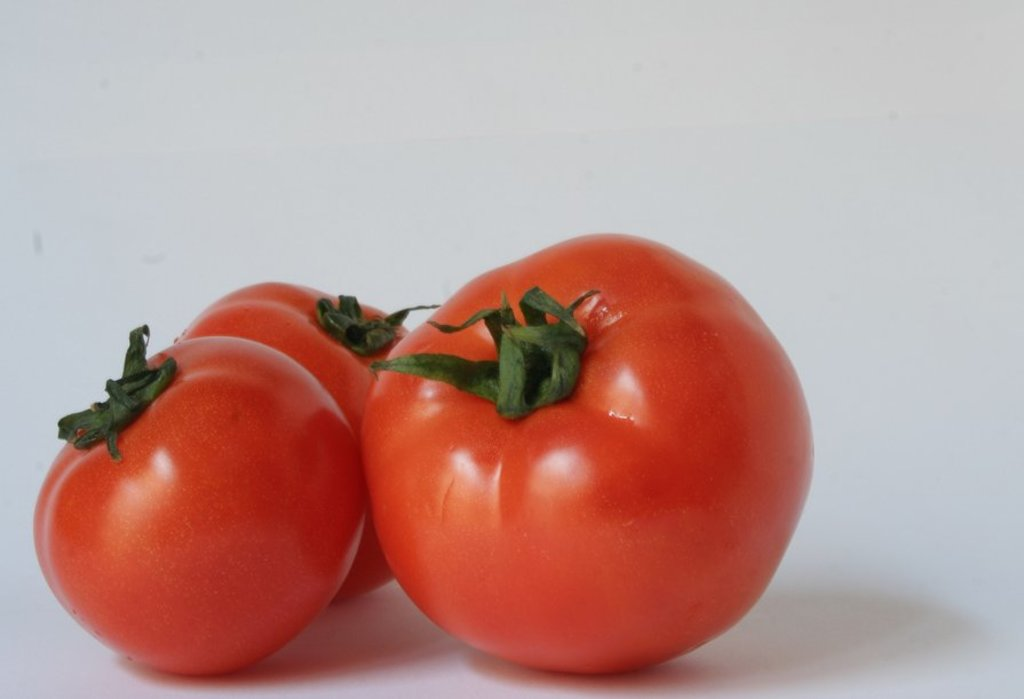Tomato: (362, 227, 815, 674), (33, 321, 368, 676), (180, 279, 434, 592)
